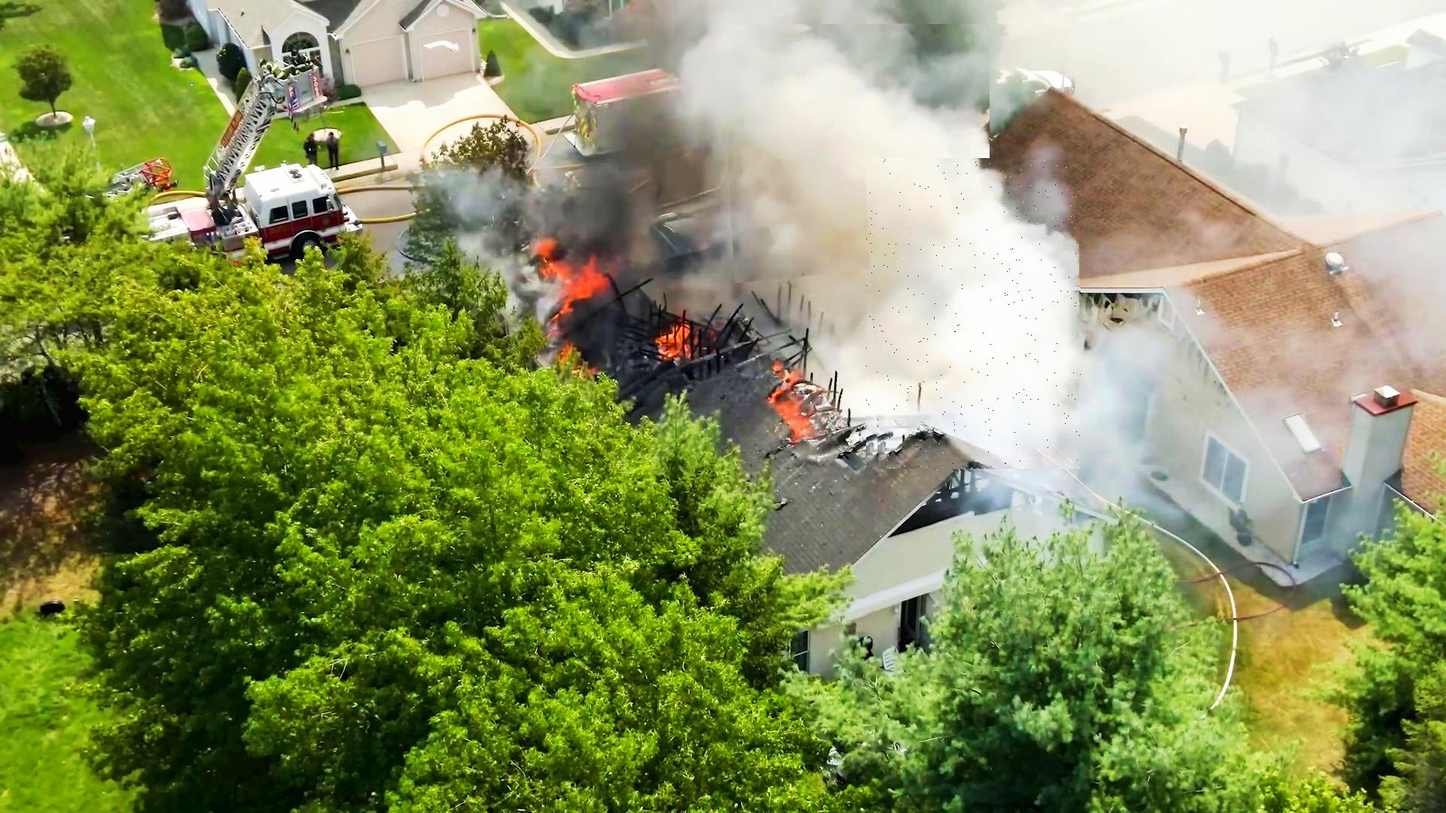smoke: (721, 25, 992, 285), (867, 160, 1081, 471)
